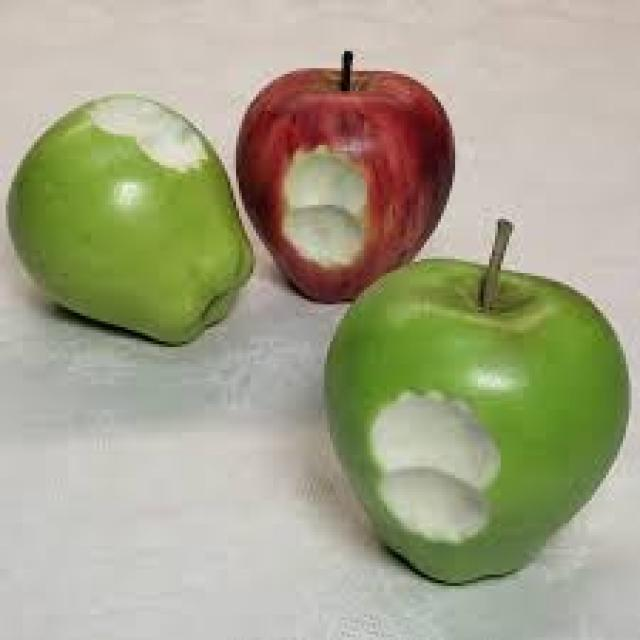Green Juicy Apple: (12, 97, 250, 345)
Used Apple: (331, 259, 627, 591), (235, 71, 460, 296)
